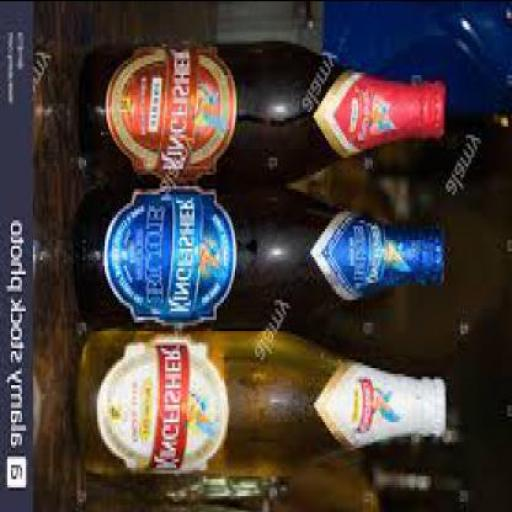glass: (79, 330, 448, 477), (80, 42, 448, 186), (77, 191, 446, 330)
